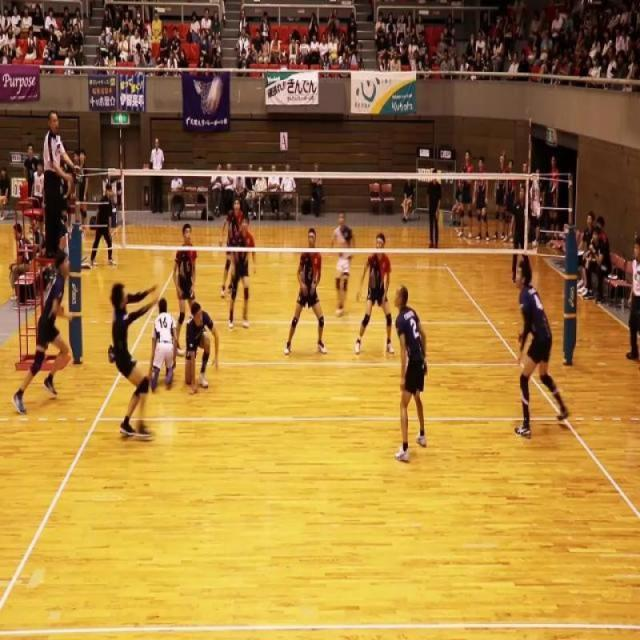volleyball: (206, 74, 224, 114)
